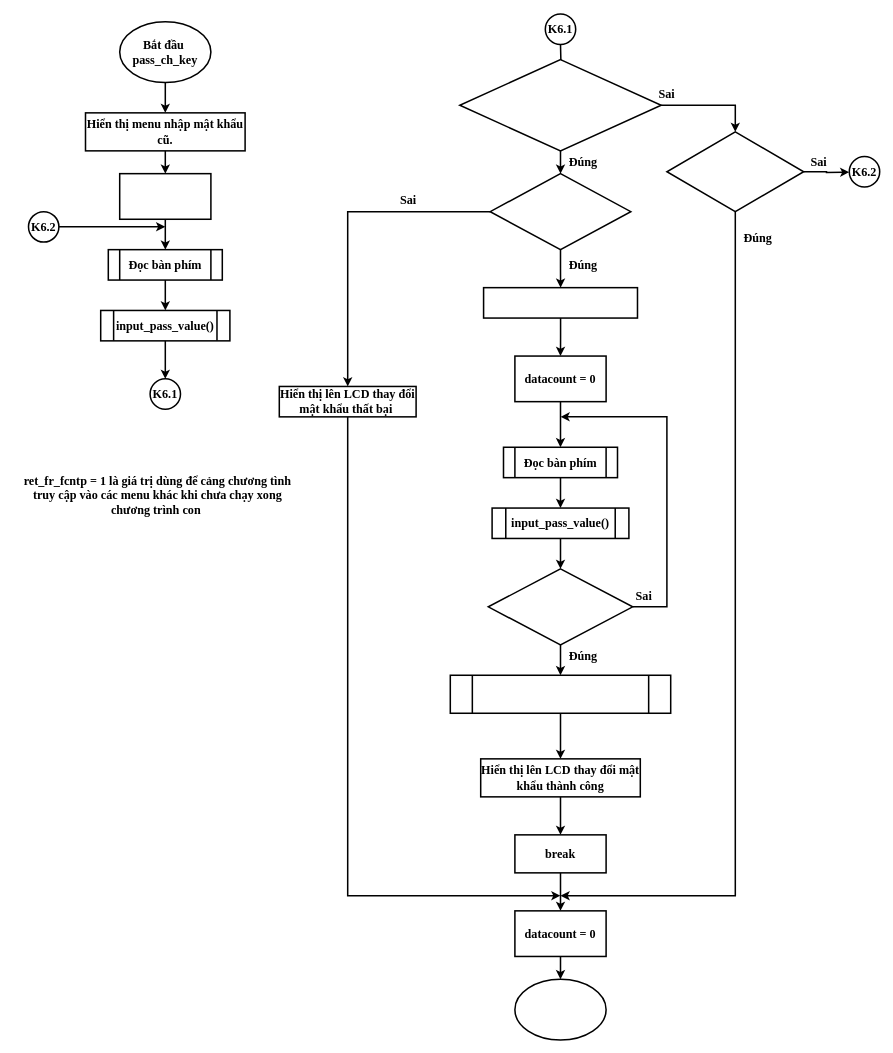
Image size: 893x1053. Some labels were removed from this diagram. Here are the shapes that lost their labels. From the top down, the box of each, then its label:
(459, 59, 662, 151): customkey == 'B' || datacount == masslpass -1
(666, 131, 804, 212): customkey == 'D'
(119, 173, 211, 220): ret_fr_fcntp = 1
(489, 173, 631, 250): checkpass(Password,data)
(482, 287, 638, 318): Hiển thị menu nhập mật khẩu mới
(487, 568, 633, 645): datacount == lpass -1
(449, 674, 671, 714): changepassword(Password,data)
(514, 978, 606, 1040): Kết thúc pass_ch_key
